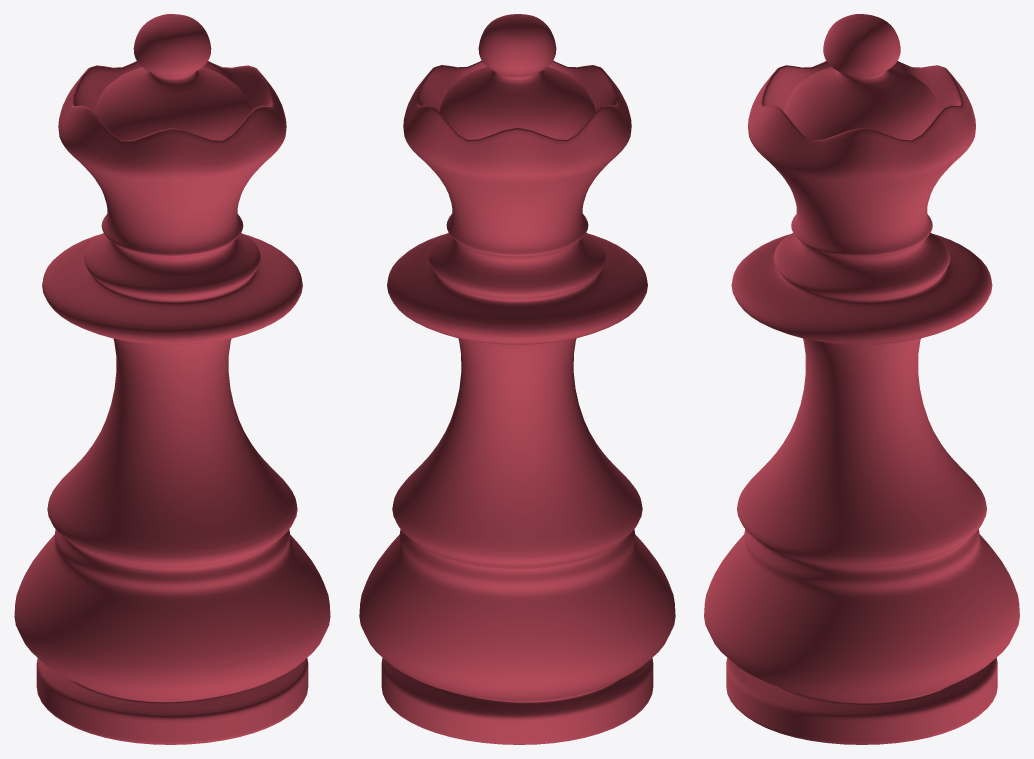
The model's file is queen-b.glb.
The picture shows the model from 3 angles, left to right: view 1: azimuth 30°, elevation 25°; view 2: azimuth 150°, elevation 25°; view 3: azimuth 270°, elevation 25°; orthographic projection.
Visible parts, largest first — view 1: Object_20; view 2: Object_20; view 3: Object_20.
Boxes of the visible parts, x1,y1,x2,y2 form: Object_20: [14, 14, 330, 744]; Object_20: [359, 14, 675, 744]; Object_20: [704, 14, 1019, 744].
Size of the model in its own units: 0.8137 by 1.9 by 0.8137.
